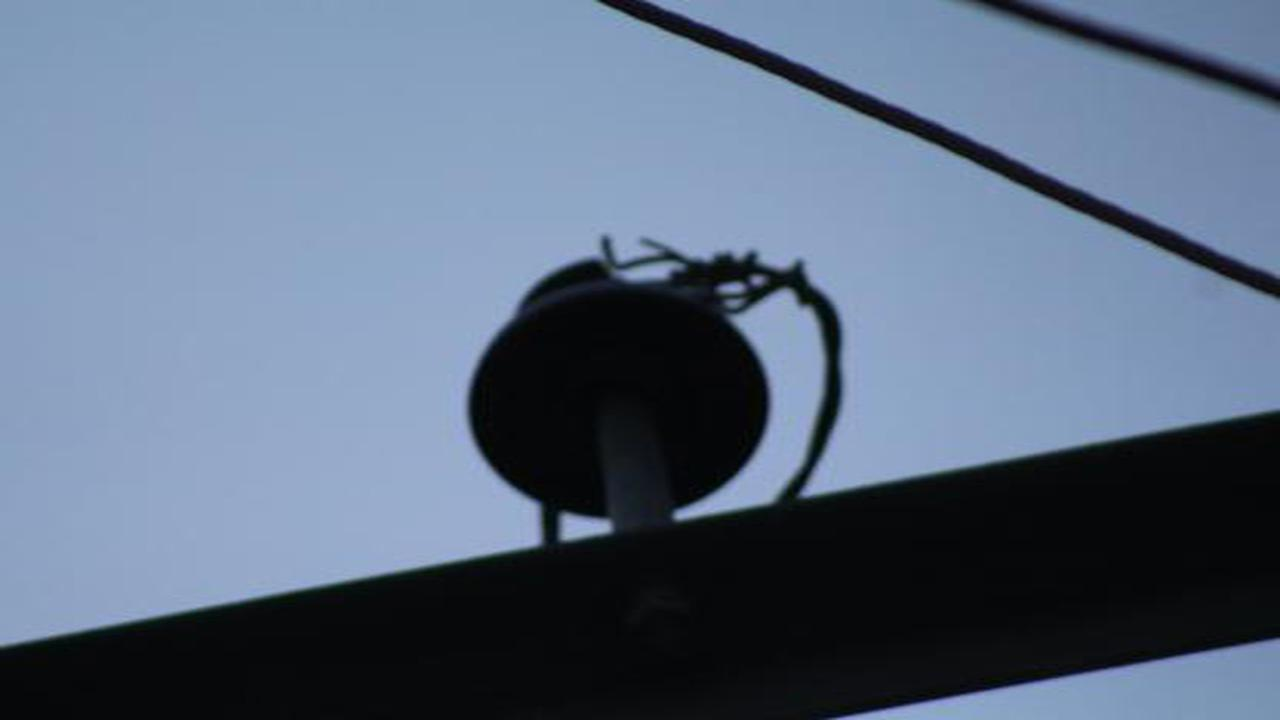insulator_pin: (468, 244, 781, 524)
